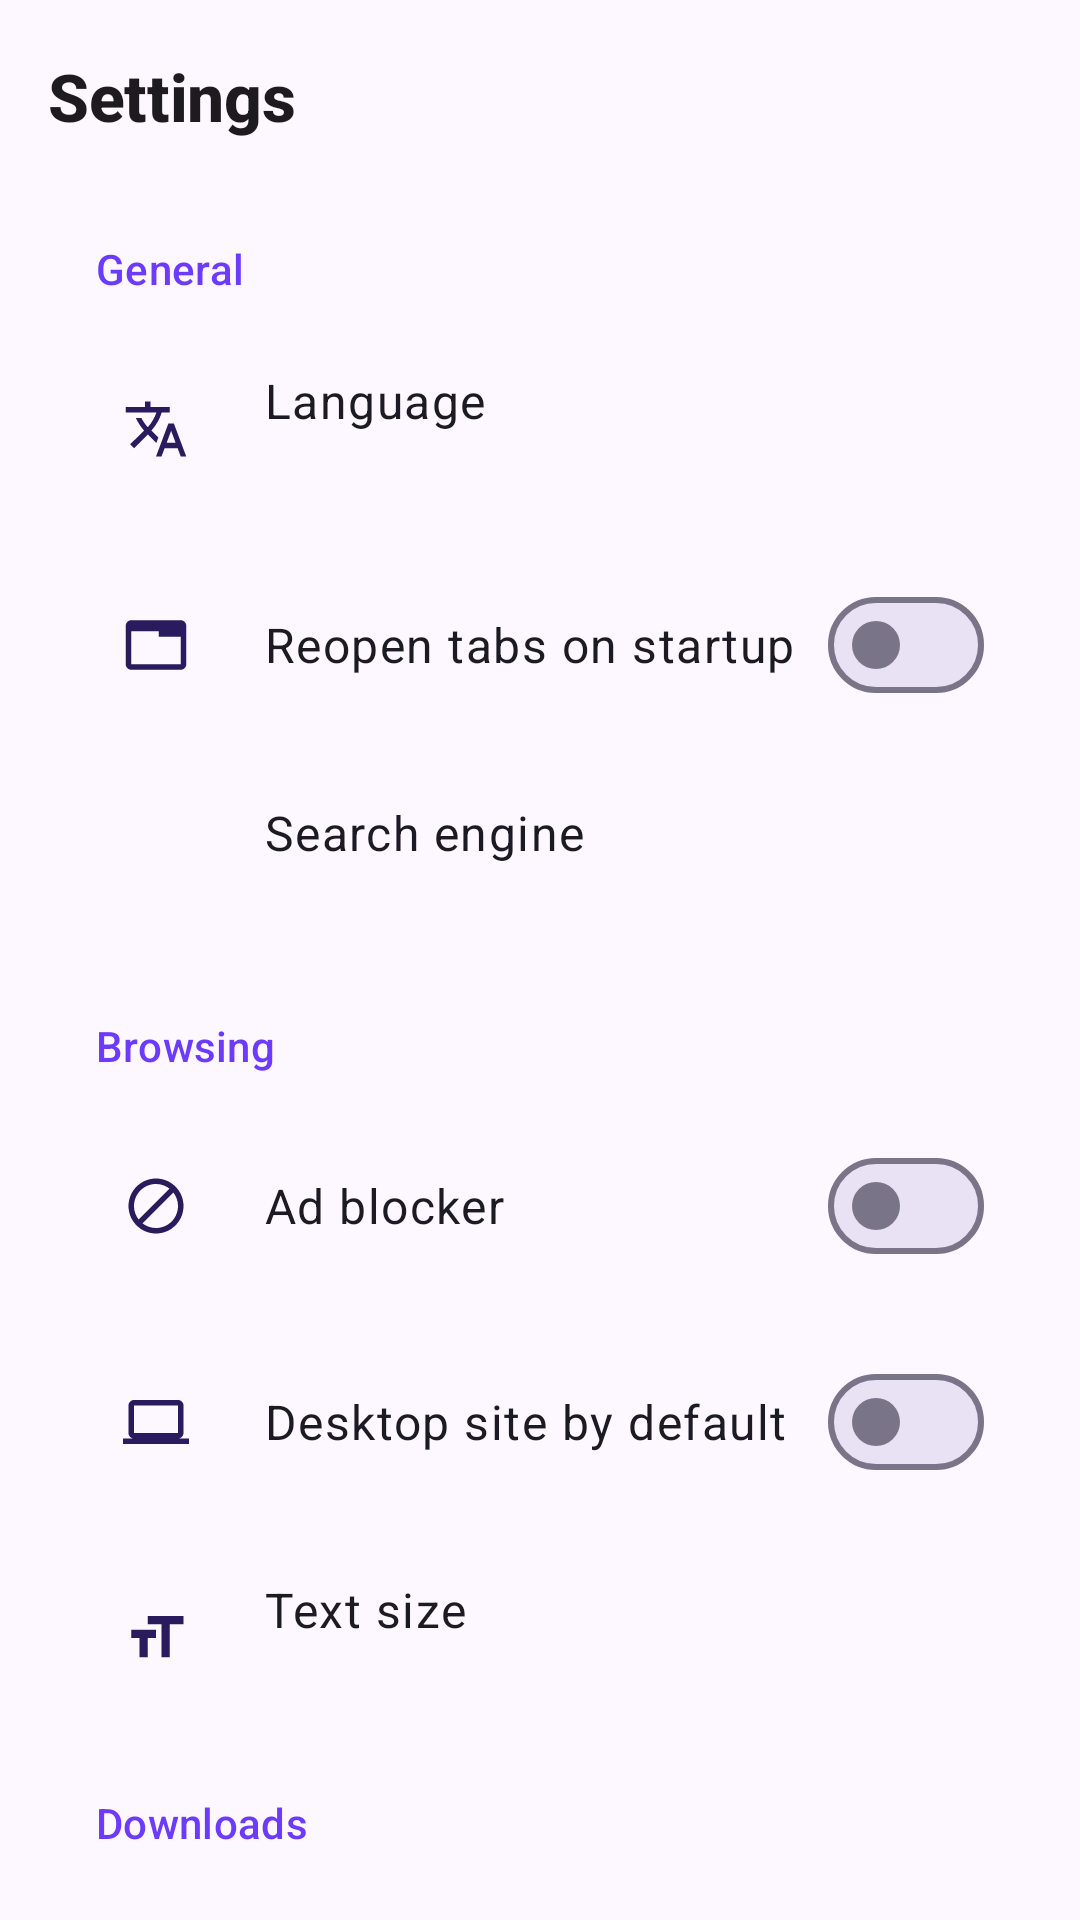

Locate icon controls on the screen. Image size 1080px×1920px, boxes as (x1, y1, x2, y2).
tab: (125, 620, 187, 670)
